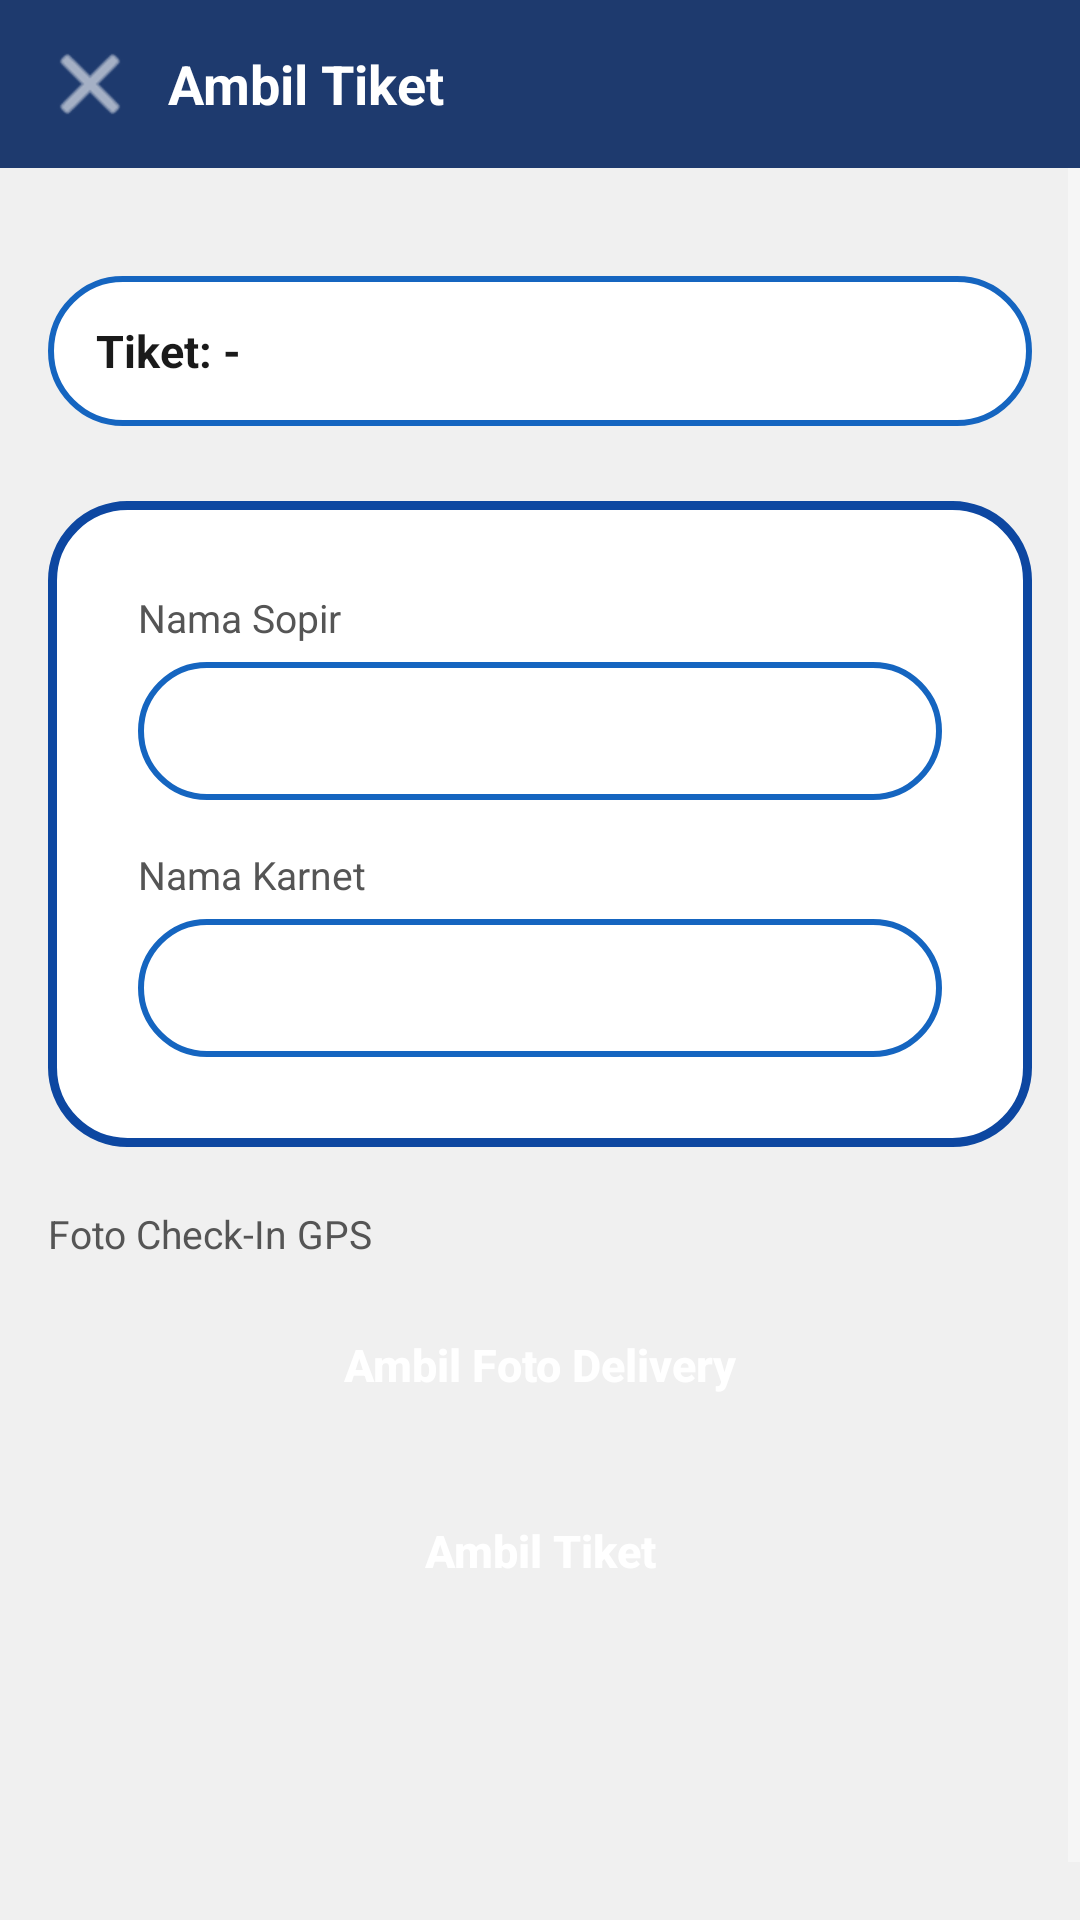

Locate icon controls on the screen. Image size 1080 × 1920, boxes as Rect(x1, y1, x2, y2).
Back: Rect(60, 54, 120, 114)
